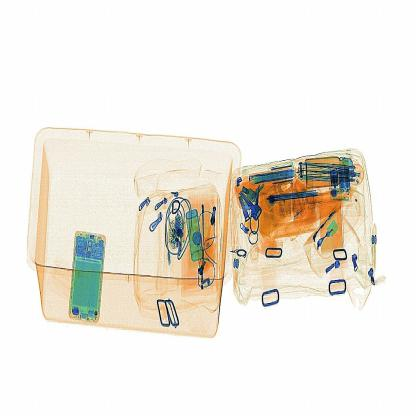pliers: (264, 186, 331, 206)
